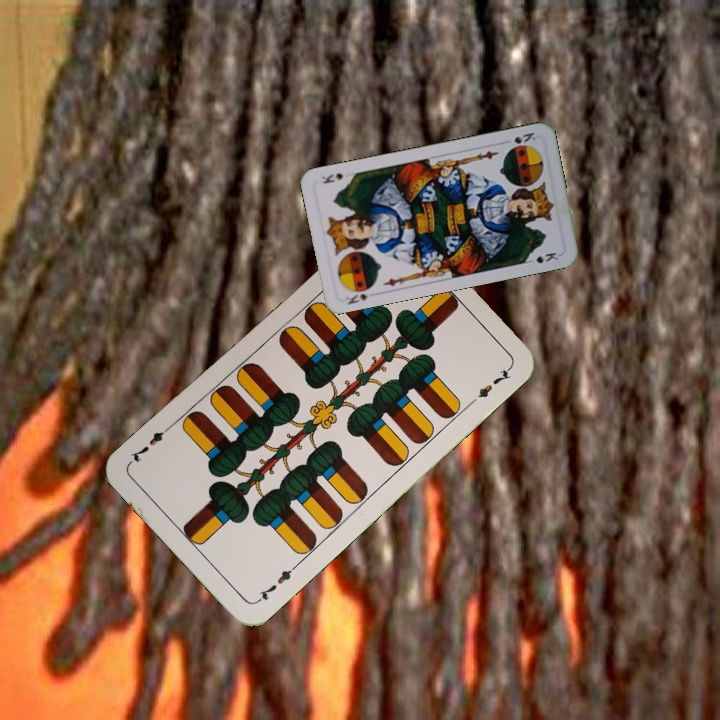E7: (252, 561, 300, 606)
SK: (499, 128, 538, 146), (342, 289, 370, 307)
